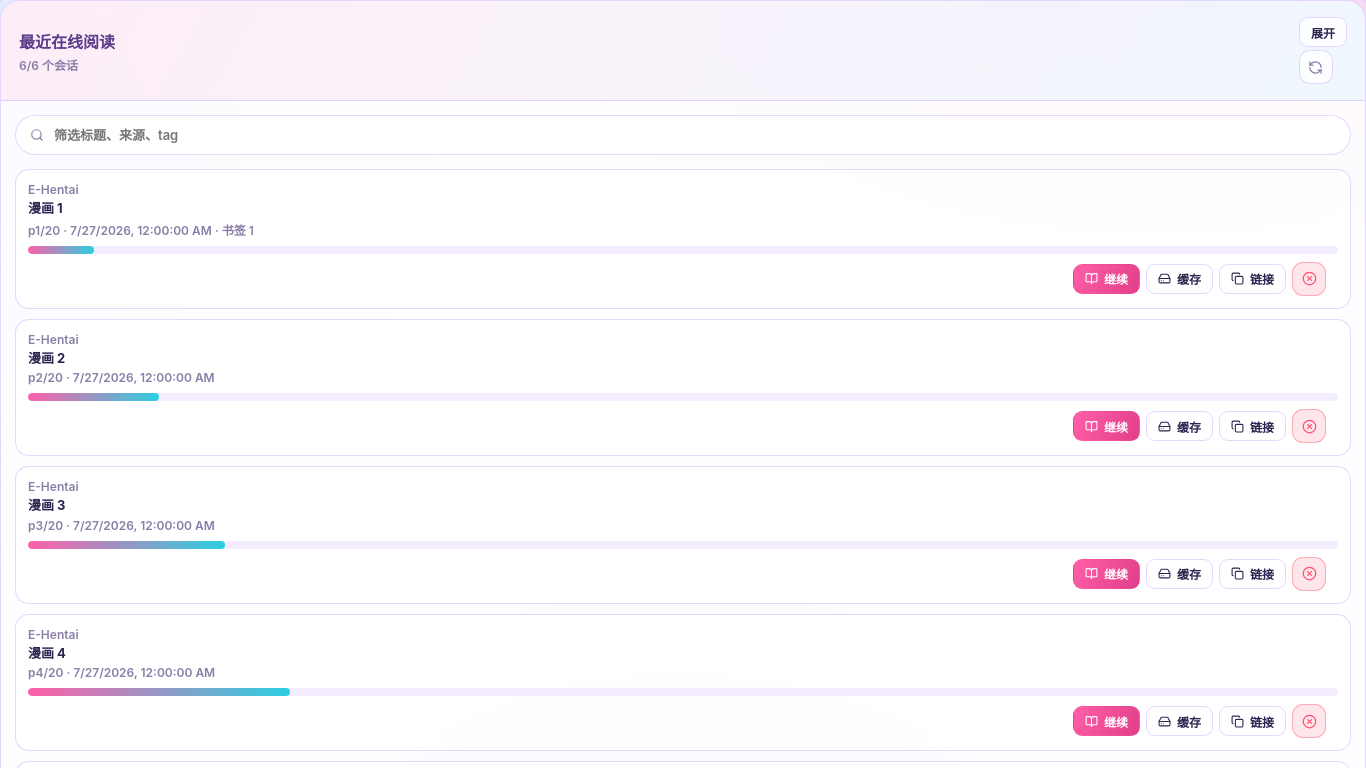
Test case: RemoteReaderHistory › 默认限制五条，支持展开和按标题、来源、Tag 筛选
The width and height of the screenshot is (1366, 768).
Click the button "展开" at [1323, 32], box [1299,17,1347,47]
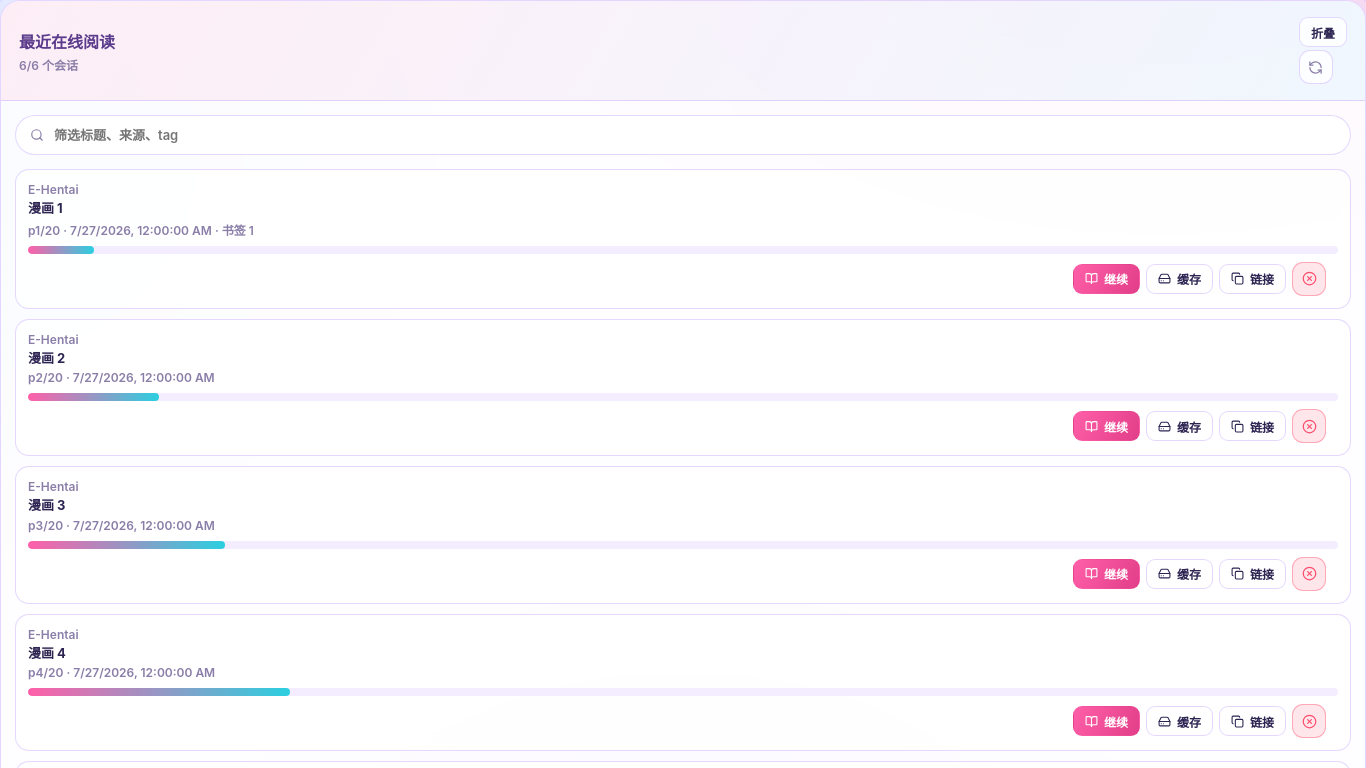
Type "special:match" into the field named "筛选在线阅读记录" at [690, 135], box [52,126,1328,144]
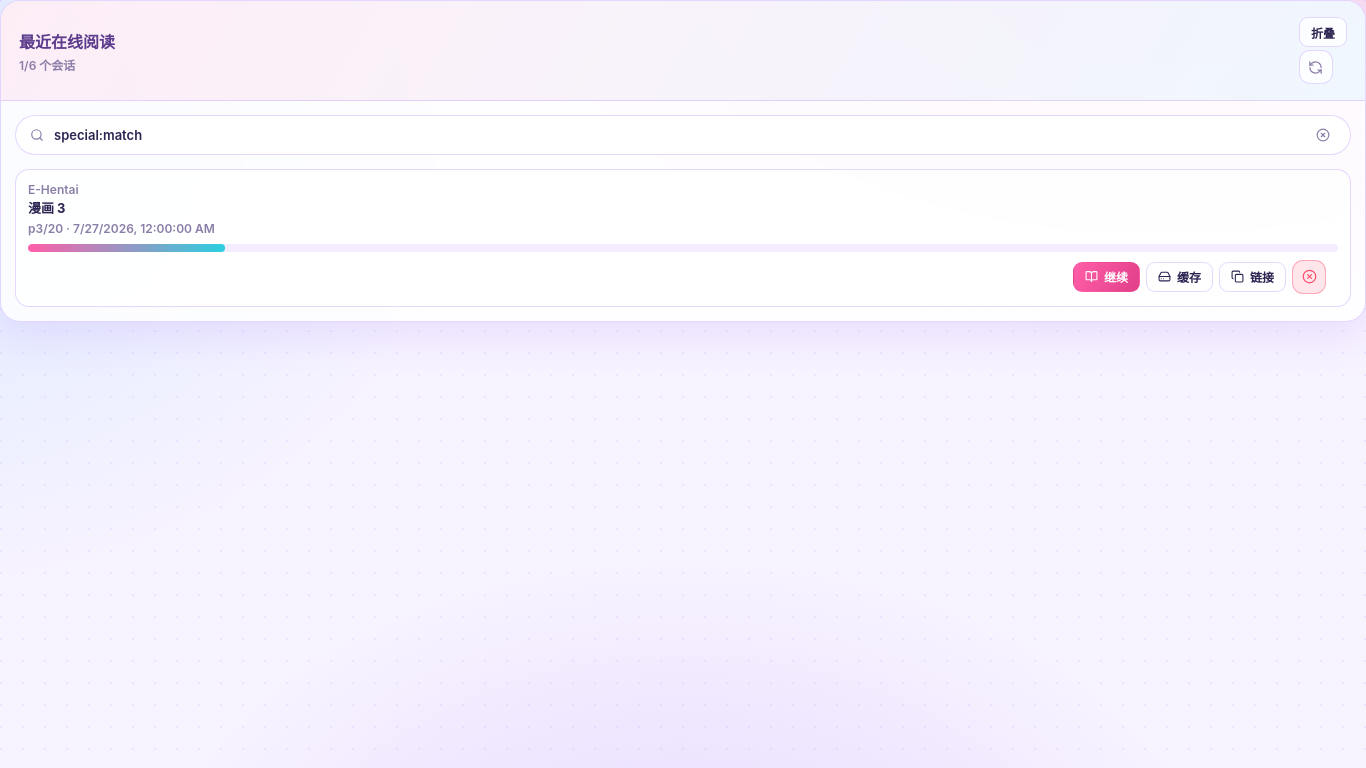
Expected: the text "漫画 3" is shown, [28,200,66,216]
Now the text "漫画 1" is gone
Now the text "1/6 个会话" is shown, box [19,58,75,72]
